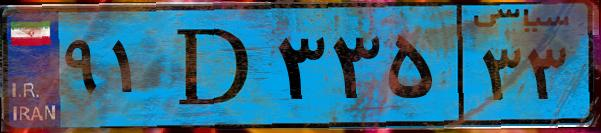1: (110, 28, 158, 98)
3: (270, 28, 330, 110), (330, 28, 385, 110), (475, 38, 525, 113), (525, 38, 570, 115)
5: (385, 28, 445, 110)
9: (57, 26, 110, 100)
D: (158, 12, 270, 120)
